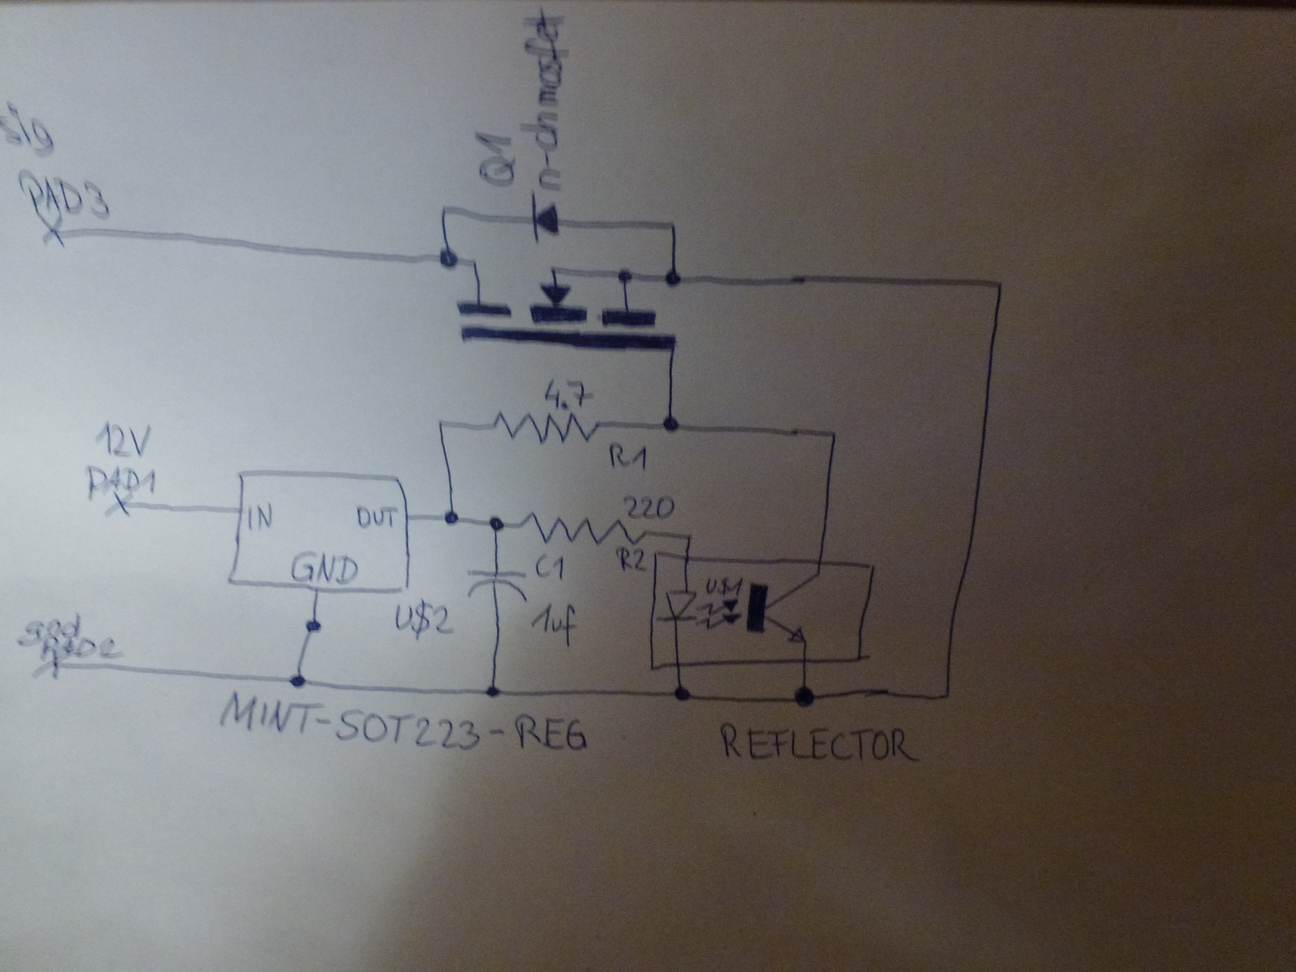capacitor.unpolarized: (463, 567, 530, 603)
diode: (527, 190, 562, 243)
integrated_circuit: (647, 546, 879, 674)
junction: (658, 266, 685, 290), (483, 512, 508, 535), (793, 683, 816, 708), (438, 247, 459, 272), (441, 507, 464, 528), (660, 411, 681, 435), (672, 684, 692, 704), (288, 671, 307, 691), (483, 682, 503, 700), (433, 414, 449, 432), (437, 200, 453, 218), (664, 216, 681, 232), (991, 277, 1006, 291), (939, 689, 952, 702), (827, 427, 839, 439), (682, 532, 694, 542)
optocoupler: (655, 565, 825, 647)
resistor: (516, 507, 647, 548), (487, 408, 598, 452)
terminal: (28, 647, 69, 682), (36, 214, 69, 248), (103, 490, 136, 519)
text: (215, 689, 589, 754), (516, 2, 571, 193), (717, 723, 916, 772), (21, 169, 114, 225), (83, 460, 158, 511), (1, 99, 54, 152), (14, 609, 83, 647), (92, 418, 152, 460), (290, 549, 360, 585), (37, 631, 123, 660), (392, 599, 453, 639), (531, 602, 580, 647), (475, 135, 514, 188), (542, 375, 593, 410), (621, 493, 674, 521), (604, 440, 649, 472), (353, 502, 396, 531), (704, 570, 746, 598), (532, 551, 566, 583), (613, 544, 646, 574), (244, 500, 273, 531)
transistor: (454, 250, 680, 355)
voltage.dc_regulator: (222, 468, 415, 596)
